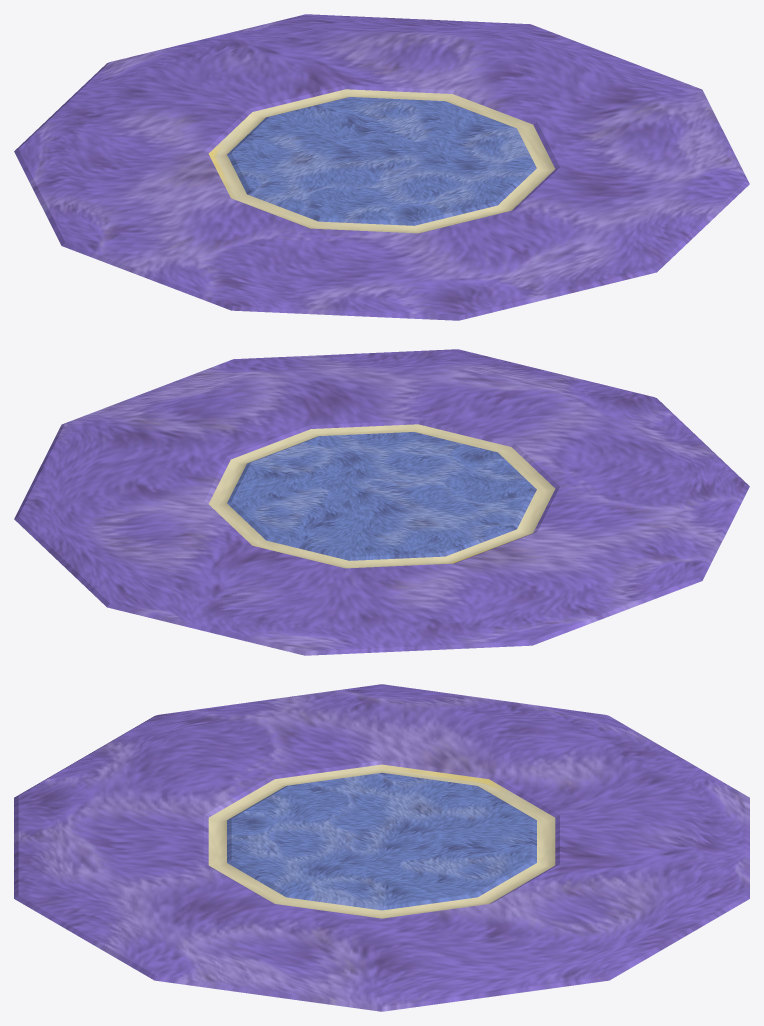
Rendered from Circular_Carpet_01_A.FBX.
3 renders of one model, top to bottom at view 1: azimuth 30°, elevation 25°; view 2: azimuth 150°, elevation 25°; view 3: azimuth 270°, elevation 25°, orthographic. The views are drawn at different scales.
Visible parts, largest first — view 1: Circular_Carpet; view 2: Circular_Carpet; view 3: Circular_Carpet.
Part boxes in pixels (bbox=[...]): Circular_Carpet: bbox=[14, 14, 749, 320]; Circular_Carpet: bbox=[14, 349, 749, 655]; Circular_Carpet: bbox=[14, 684, 749, 1011].
Bounding box in the file's own units: 316 × 4.05 × 300.
